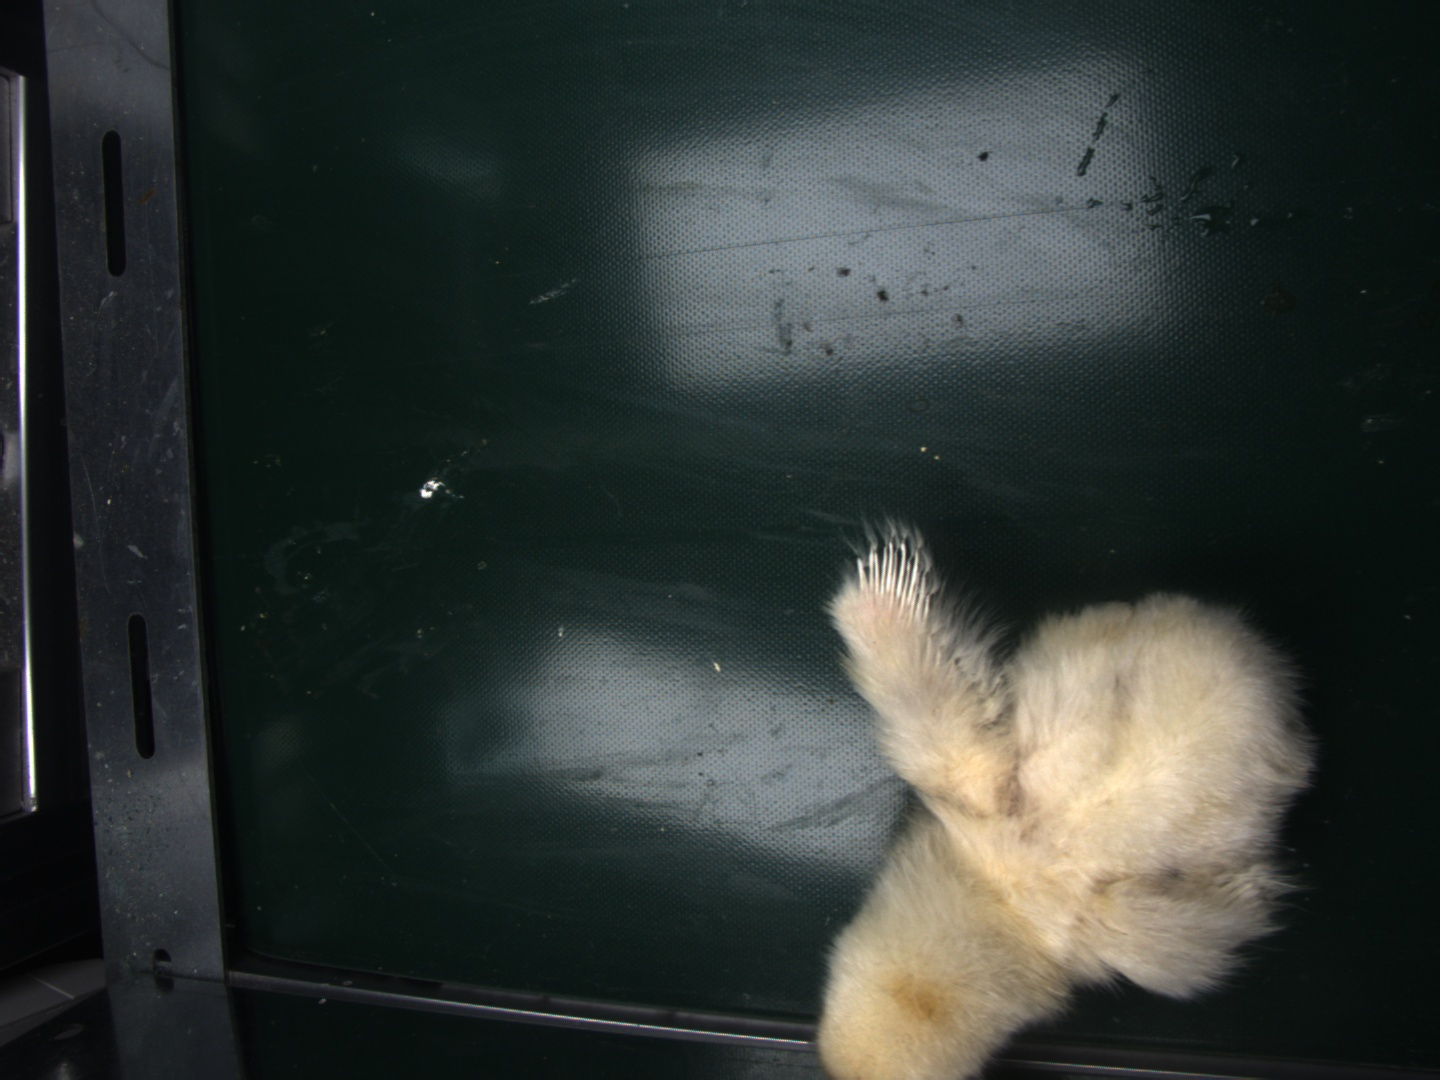male: (863, 534, 938, 617)
